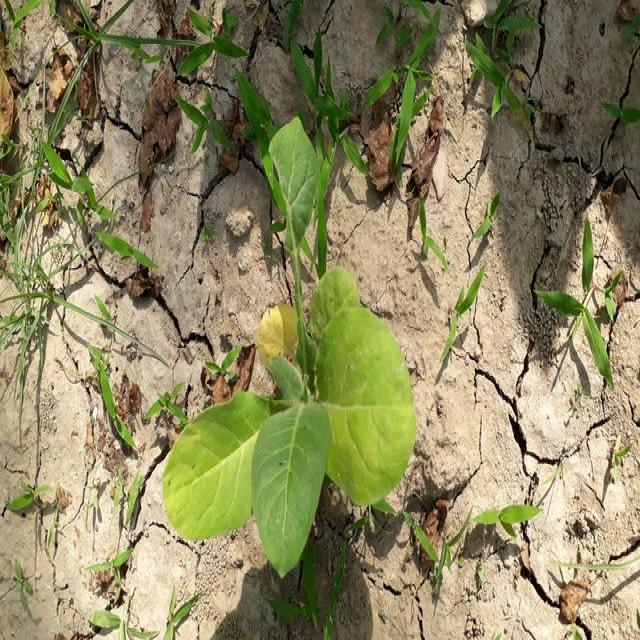crop: (162, 127, 427, 584)
